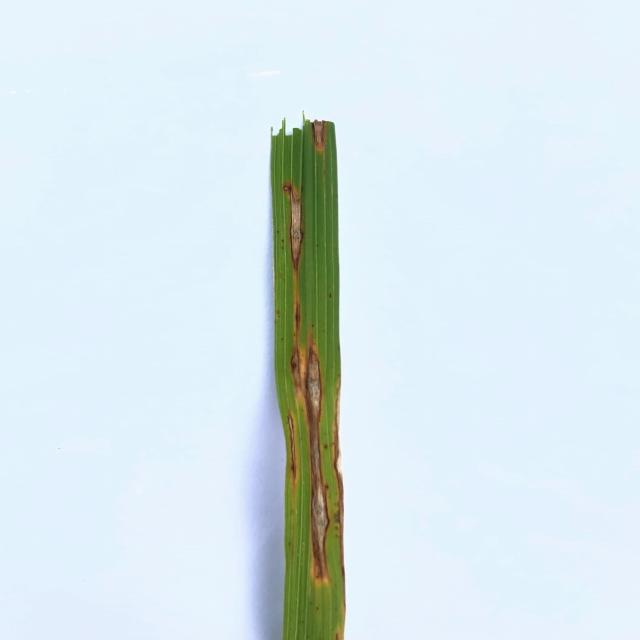leaf blast: (304, 341, 331, 583), (334, 375, 343, 547), (289, 178, 304, 276), (287, 413, 298, 486), (291, 341, 302, 392), (313, 120, 327, 154), (282, 181, 290, 195)
